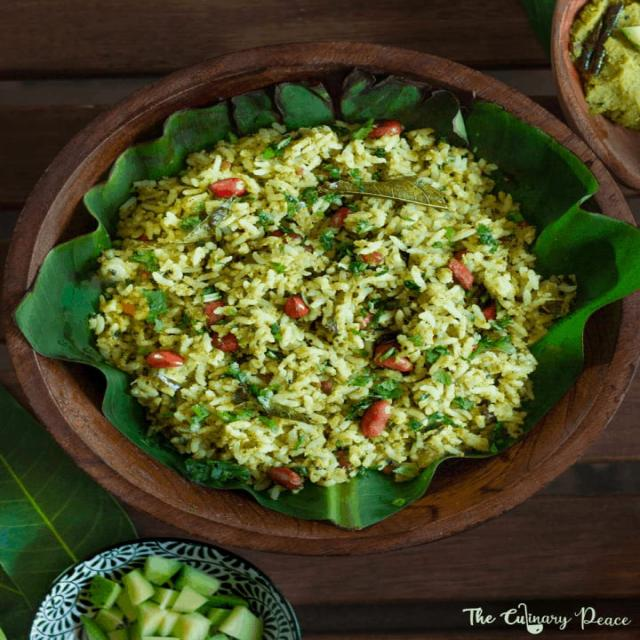lemon rice: (71, 108, 596, 504)
